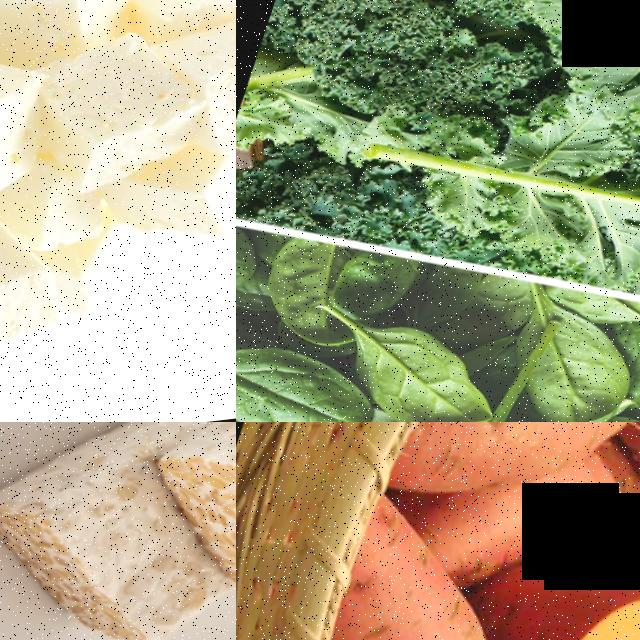spinach: (335, 312, 517, 422), (236, 316, 396, 422), (521, 312, 640, 422)
sweet potato: (290, 500, 549, 640), (385, 422, 640, 547)
tempeh: (0, 422, 236, 640), (120, 422, 236, 640)
tofu: (30, 17, 220, 215), (0, 177, 90, 387), (116, 149, 236, 275), (0, 22, 65, 230), (176, 4, 236, 185), (0, 0, 139, 55)
